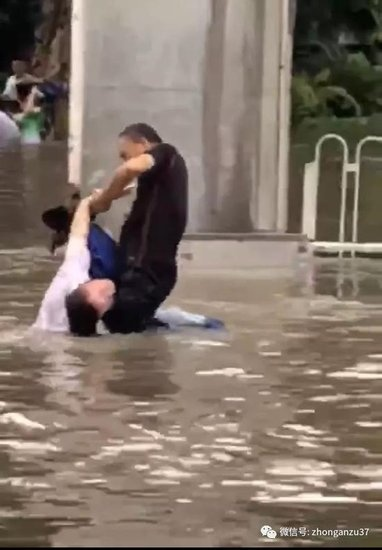falling: (17, 189, 126, 343)
